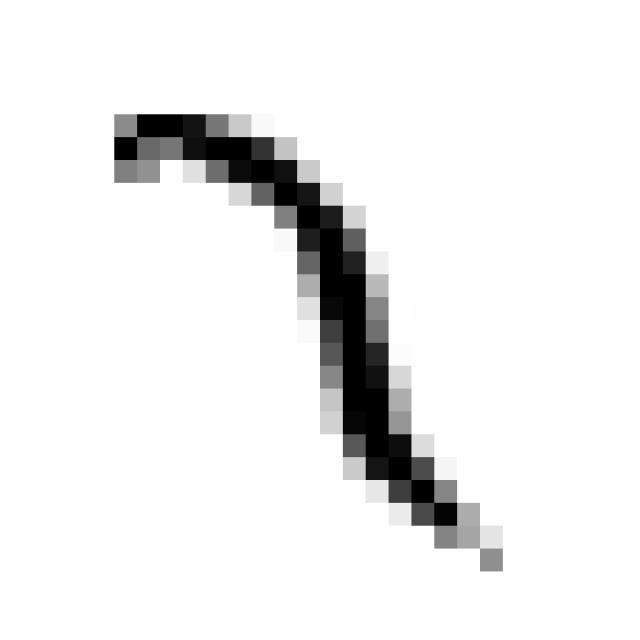6 -six-: (92, 92, 511, 590)
